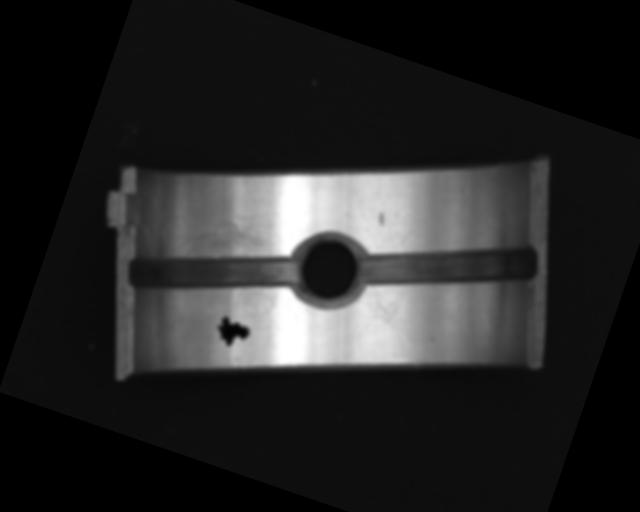blot: (210, 313, 253, 353)
bruise: (374, 210, 387, 228)
gap: (356, 199, 540, 332), (123, 213, 303, 336)
hole: (284, 228, 371, 318)
scratch: (169, 201, 281, 281)
